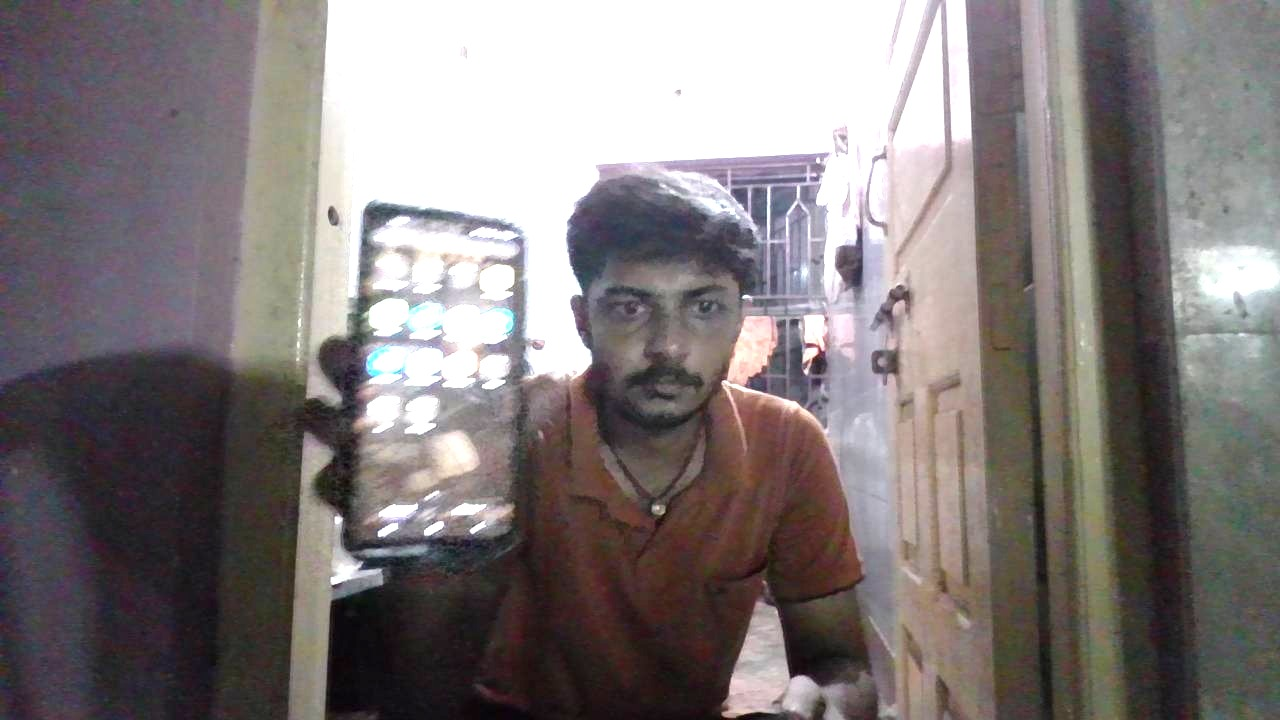red_box: (686, 396, 862, 586)
